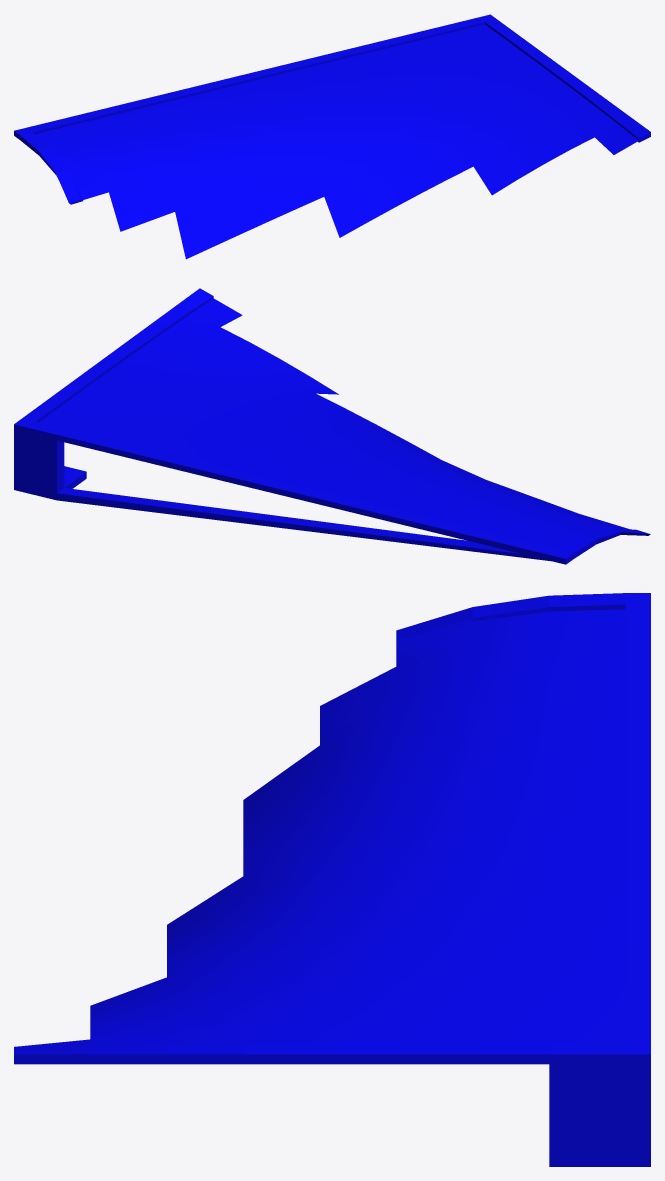
File: sub_BrokenWireNettingStoolDown2.fbx
3 renders of one model, top to bottom at view 1: azimuth 30°, elevation 25°; view 2: azimuth 150°, elevation 25°; view 3: azimuth 270°, elevation 25°, orthographic. The views are drawn at different scales.
Visible parts, largest first — view 1: sub_BrokenWireNettingStoolDown2; view 2: sub_BrokenWireNettingStoolDown2; view 3: sub_BrokenWireNettingStoolDown2.
Part boxes in pixels (box(x1,y1,x2,y2)): sub_BrokenWireNettingStoolDown2: box(14, 14, 650, 259); sub_BrokenWireNettingStoolDown2: box(14, 288, 650, 564); sub_BrokenWireNettingStoolDown2: box(14, 593, 650, 1166).
Bounding box in the file's own units: 6.4 × 0.8878 × 3.66.
